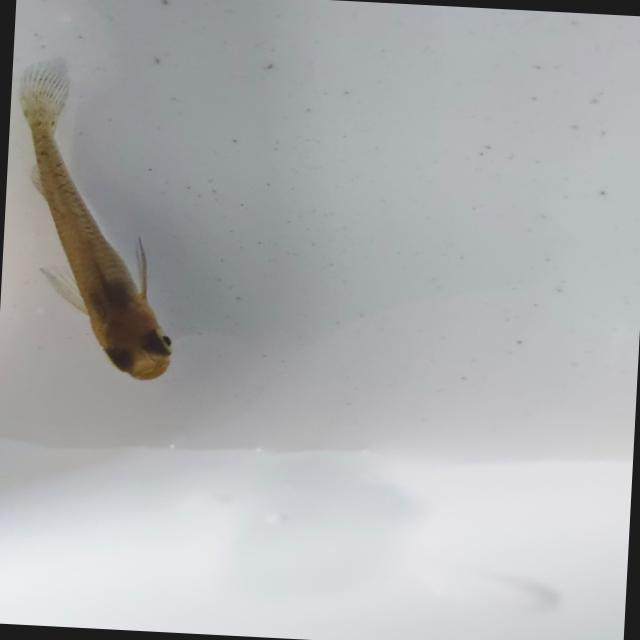Sivrisinek Baligi: (0, 46, 203, 396)
